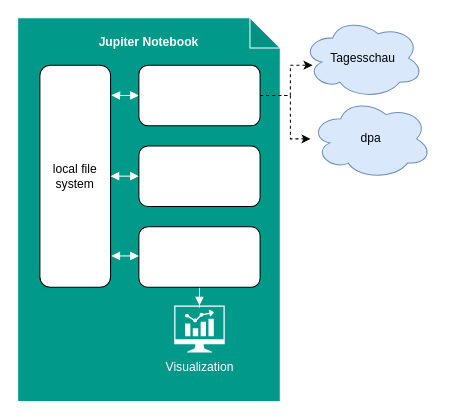
This 449x419 diagram has some shape labels left out. The shapes that lost their labels are listed below. From the top down, each one's box as (x1, y1, x2, y2) in pixels, then its label:
(138, 64, 260, 126): data_collection
(138, 145, 260, 207): data_cleansing
(138, 226, 260, 287): data_analytics
